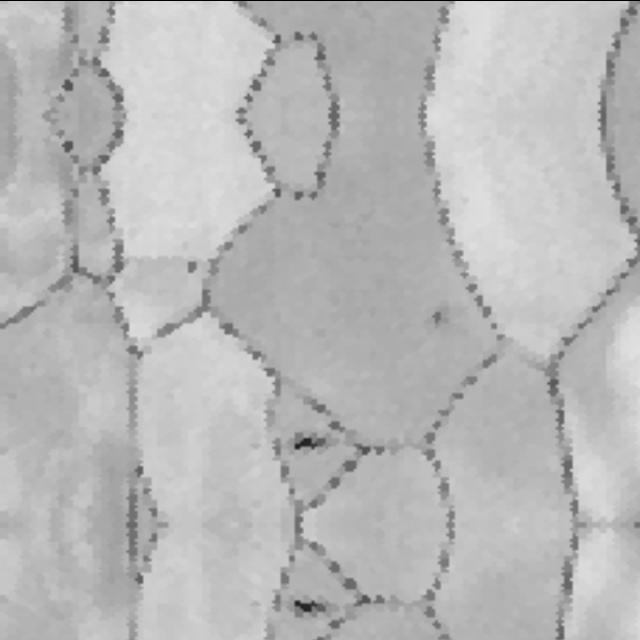good_void: (280, 423, 348, 466), (280, 584, 348, 627), (417, 290, 458, 335), (183, 257, 202, 277)
